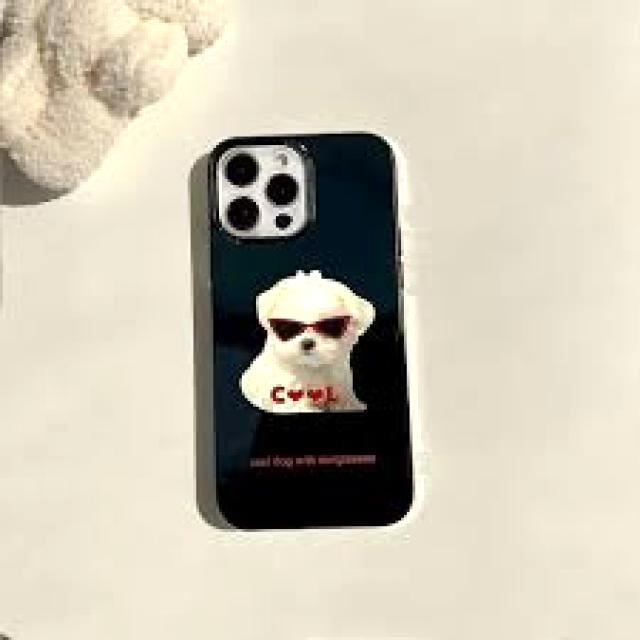lens_back: (221, 192, 264, 238), (263, 166, 306, 211), (219, 151, 264, 191)
phone: (210, 129, 418, 533)
